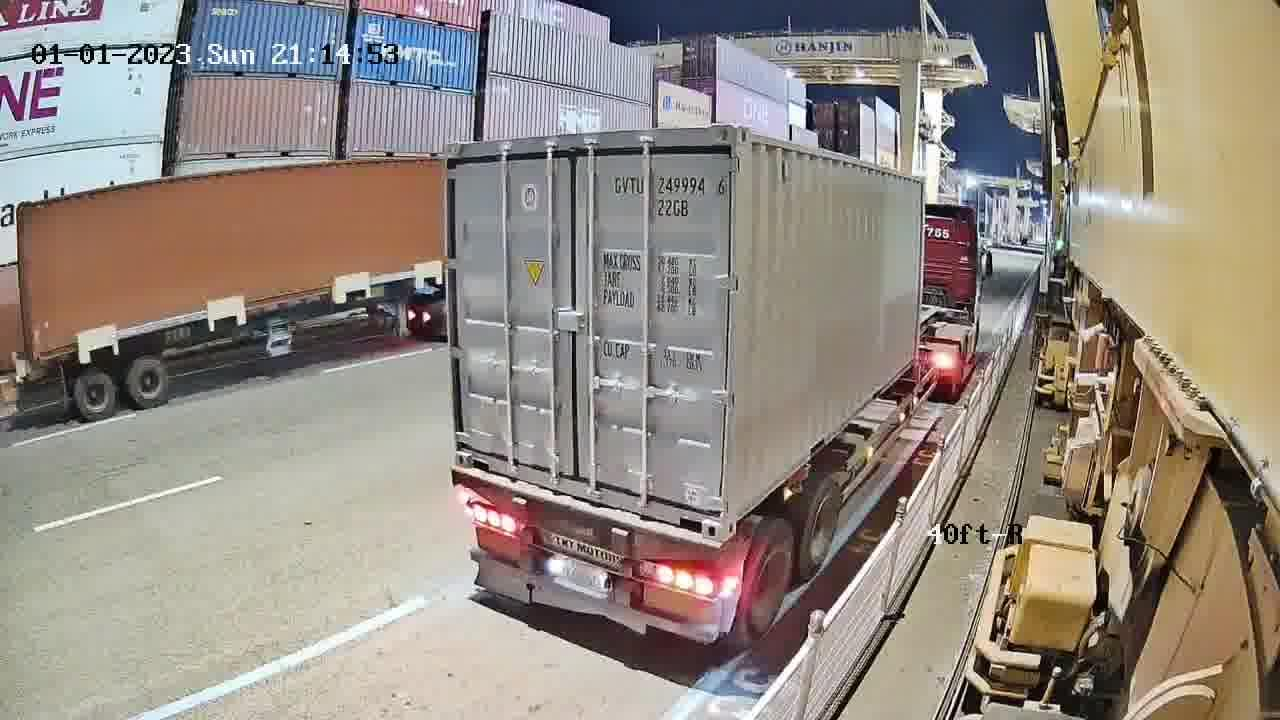Chassis: (455, 473, 722, 557)
Hole_L: (726, 468, 762, 542), (453, 424, 495, 475)
Hole_R: (681, 485, 726, 545)
Tire: (740, 523, 794, 641), (796, 479, 844, 576)
